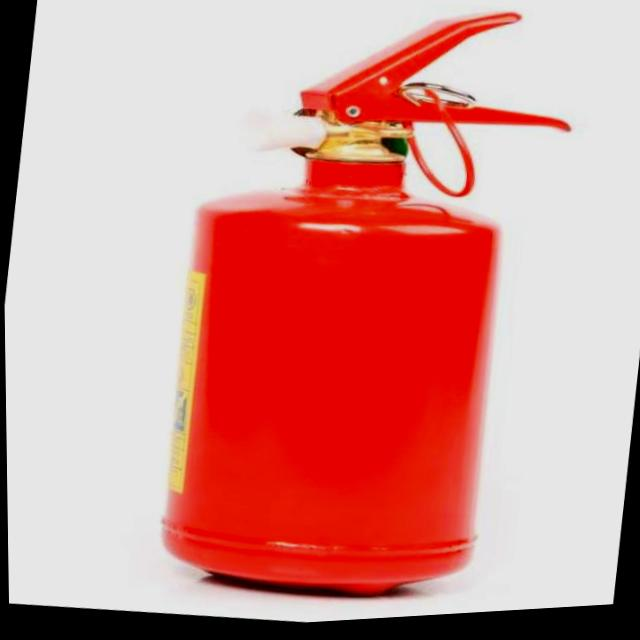FireExtinguisher: (128, 0, 601, 634)
